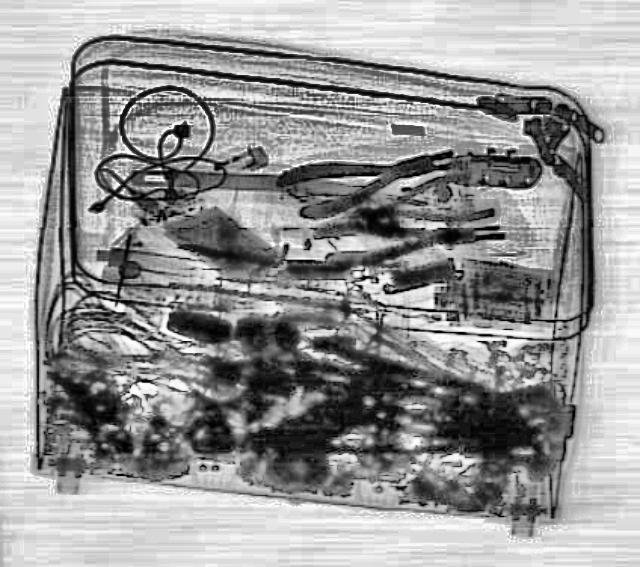Pliers: (267, 126, 465, 226), (307, 165, 497, 247), (309, 206, 507, 270)
